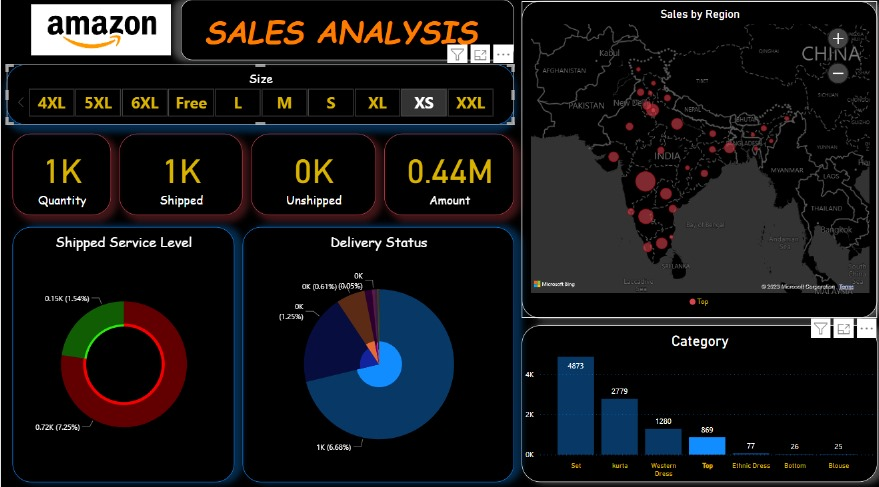

This screenshot's page, from the dashboard's own definition file:
{"tool":"powerbi","page":{"name":"Page 1","canvas":[1420,800],"ordinal":0},"visuals":[{"type":"slicer","title":"Size","fields":{"Values":["Amazon Sale Report.Size"]},"box":[9.4,112.6,816.1,96.5],"z":0},{"type":"textbox","box":[289.4,8,536,97.8],"z":1000},{"type":"columnChart","title":"Category","fields":{"Category":["Amazon Sale Report.Category"],"Y":["Sum(Amazon Sale Report.Quantity)"]},"box":[837.5,532,572.2,251.9],"z":2000},{"type":"card","fields":{"Values":["Sum(Amazon Sale Report.Quantity)"]},"box":[18.8,223.8,158.1,131.3],"z":3000},{"type":"map","title":"Sales by Region","fields":{"Category":["Amazon Sale Report.ship-state"],"Size":["Sum(Amazon Sale Report.Quantity)"],"Series":["Amazon Sale Report.Category"]},"box":[837.5,10.7,572.2,509.2],"z":4000},{"type":"card","fields":{"Values":["Sum(Amazon Sale Report.Shipped)"]},"box":[190.3,223.8,198.3,131.3],"z":5000},{"type":"card","fields":{"Values":["Sum(Amazon Sale Report.Unshipped)"]},"box":[402,223.8,201,131.3],"z":6000},{"type":"card","fields":{"Values":["Sum(Amazon Sale Report.Amount)"]},"box":[616.4,223.8,209,131.3],"z":7000},{"type":"pieChart","title":"Delivery Status","fields":{"Category":["Amazon Sale Report.Status"],"Y":["Sum(Amazon Sale Report.Quantity)"]},"box":[388.6,373.9,436.9,410.1],"z":8000},{"type":"donutChart","title":"Shipped Service Level","fields":{"Category":["Amazon Sale Report.ship-service-level"],"Y":["CountNonNull(Amazon Sale Report.ship-service-level)"]},"box":[18.8,373.9,356.4,410.1],"z":8001},{"type":"image","box":[9.4,10.7,302.8,92.5],"z":8002}]}

Visuals, with their boxes in screenshot pixels (x1, y1, x2, y2), scaled from the page's 1420x800 canvas onto the 879x487 screenshot:
"Size" slicer: (x1=6, y1=69, x2=511, y2=127)
textbox: (x1=179, y1=5, x2=511, y2=64)
"Category" columnChart: (x1=518, y1=324, x2=873, y2=477)
card - Sum(Amazon Sale Report.Quantity): (x1=12, y1=136, x2=110, y2=216)
"Sales by Region" map: (x1=518, y1=7, x2=873, y2=316)
card - Sum(Amazon Sale Report.Shipped): (x1=118, y1=136, x2=241, y2=216)
card - Sum(Amazon Sale Report.Unshipped): (x1=249, y1=136, x2=373, y2=216)
card - Sum(Amazon Sale Report.Amount): (x1=382, y1=136, x2=511, y2=216)
"Delivery Status" pieChart: (x1=241, y1=228, x2=511, y2=477)
"Shipped Service Level" donutChart: (x1=12, y1=228, x2=232, y2=477)
image: (x1=6, y1=7, x2=193, y2=63)
